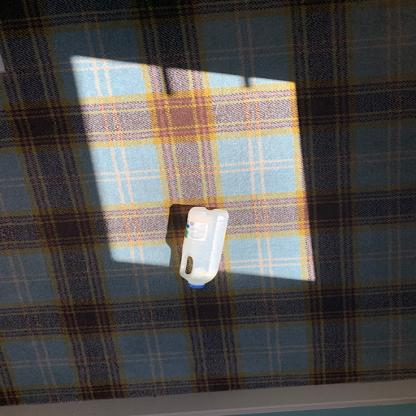trash: (174, 206, 232, 292)
